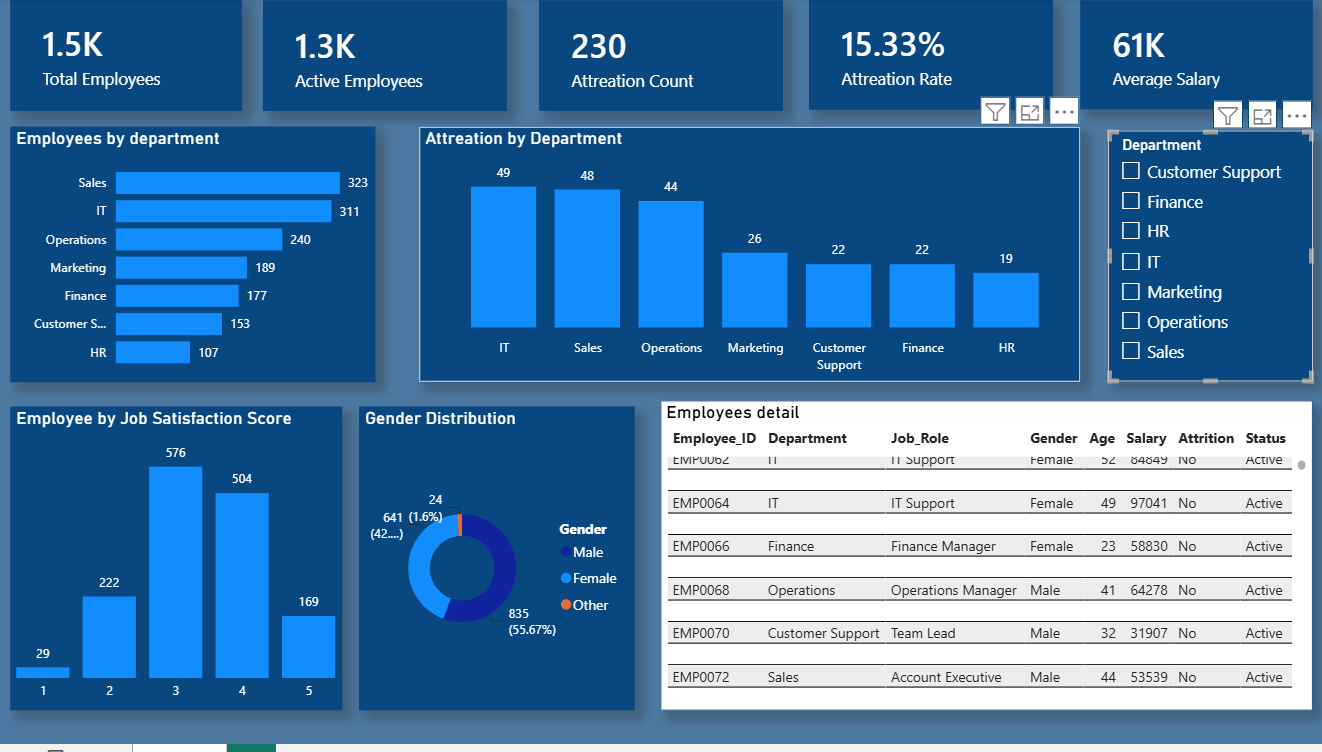

Layout of this report page (visuals, bound fields, positions):
{"tool":"powerbi","page":{"name":"Page 1","canvas":[1280,720],"ordinal":0},"visuals":[{"type":"cardVisual","fields":{"Data":["HR_Data.Total Employees"]},"box":[12.1,0,223.2,108.6],"z":0},{"type":"cardVisual","fields":{"Data":["HR_Data.Active Employees"]},"box":[255.8,2.4,235.3,106.2],"z":1000},{"type":"cardVisual","fields":{"Data":["HR_Data.Attreation Count"]},"box":[522.4,2.4,235.3,106.2],"z":2000},{"type":"cardVisual","fields":{"Data":["HR_Data.Attreation Rate"]},"box":[783,1.2,235.3,106.2],"z":3000},{"type":"cardVisual","fields":{"Data":["HR_Data.Average Salary"]},"box":[1044.8,2.4,224.4,105],"z":4000},{"type":"clusteredBarChart","title":"Employees by department ","fields":{"Category":["HR_Data.Department"],"Y":["Count(HR_Data.Employee_ID)"]},"box":[12.1,124.3,352.3,246.1],"z":5000},{"type":"clusteredColumnChart","title":"Attreation by Department","fields":{"Category":["HR_Data.Department"],"Y":["HR_Data.Attreation Count"]},"box":[406.6,124.3,638.2,246.1],"z":6000},{"type":"donutChart","title":"Gender Distribution","fields":{"Category":["HR_Data.Gender"],"Y":["CountNonNull(HR_Data.Employee_ID)"]},"box":[348.7,394.5,265.4,293.2],"z":7000},{"type":"clusteredColumnChart","title":" Employee by Job Satisfaction Score","fields":{"Category":["HR_Data.Job_Satisfaction_Score"],"Y":["CountNonNull(HR_Data.Employee_ID)"]},"box":[12.1,394.5,319.7,293.2],"z":8000},{"type":"slicer","fields":{"Values":["HR_Data.Department"]},"box":[1071.3,127.9,197.9,242.5],"z":9000},{"type":"tableEx","title":"Employees detail","fields":{"Values":["HR_Data.Employee_ID","HR_Data.Department","HR_Data.Job_Role","HR_Data.Gender","HR_Data.Age","HR_Data.Monthly_Salary_INR","HR_Data.Attrition","HR_Data.Employment_Status"]},"box":[639.4,388.5,629.8,299.2],"z":10000}]}

Visuals, with their boxes in screenshot pixels (x1, y1, x2, y2), scaled from the page's 1280x720 canvas onto the 1322x752 screenshot:
cardVisual - HR_Data.Total Employees: [12, 0, 243, 113]
cardVisual - HR_Data.Active Employees: [264, 3, 507, 113]
cardVisual - HR_Data.Attreation Count: [540, 3, 783, 113]
cardVisual - HR_Data.Attreation Rate: [809, 1, 1052, 112]
cardVisual - HR_Data.Average Salary: [1079, 3, 1311, 112]
"Employees by department " clusteredBarChart: [12, 130, 376, 387]
"Attreation by Department" clusteredColumnChart: [420, 130, 1079, 387]
"Gender Distribution" donutChart: [360, 412, 634, 718]
" Employee by Job Satisfaction Score" clusteredColumnChart: [12, 412, 343, 718]
slicer - HR_Data.Department: [1106, 134, 1311, 387]
"Employees detail" tableEx: [660, 406, 1311, 718]
